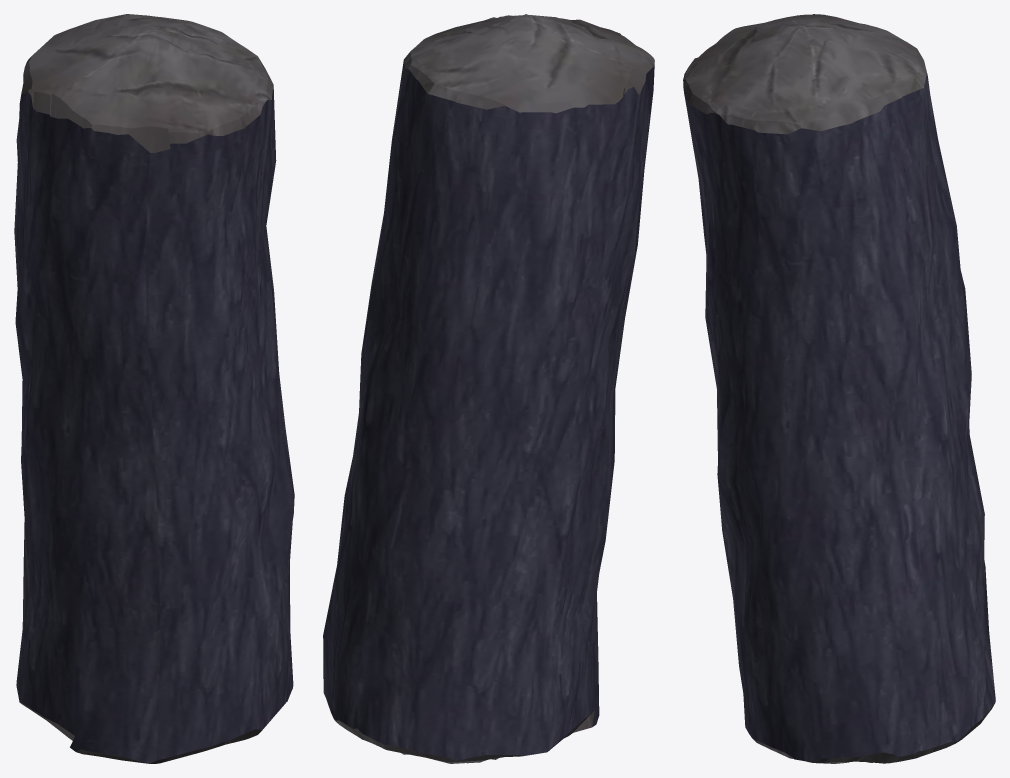
The picture shows the model from 3 angles, left to right: view 1: azimuth 30°, elevation 25°; view 2: azimuth 150°, elevation 25°; view 3: azimuth 270°, elevation 25°; orthographic projection. The views are drawn at different scales.
Parts seen in each view (by area): view 1: SM_Willow_02_quarter_03_LOD0; view 2: SM_Willow_02_quarter_03_LOD0; view 3: SM_Willow_02_quarter_03_LOD0.
Part boxes in pixels (x1,y1,x2,y2): SM_Willow_02_quarter_03_LOD0: (14,14,294,763); SM_Willow_02_quarter_03_LOD0: (323,14,654,763); SM_Willow_02_quarter_03_LOD0: (683,14,995,763).
Size of the model in its own units: 1.08 by 2.79 by 1.11.
Materials: 1 (1 with a texture image).
